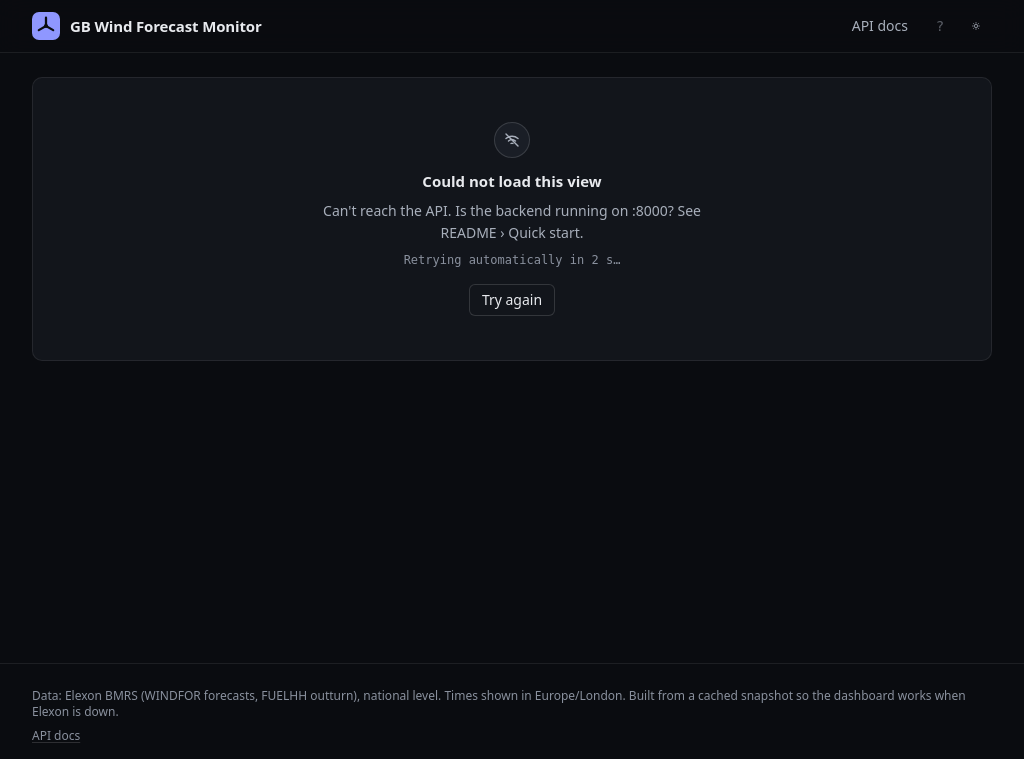
it: App › says the backend can't be reached when the dev proxy answers 500, then recovers
Expected: the message shows "Can't reach the API. Is the backend running on :8000?", [323,201,701,242]
Expected: the message does not show "Request failed (500)", [323,122,701,316]
Click the button "Try again": (512, 300) [469,284,555,316]
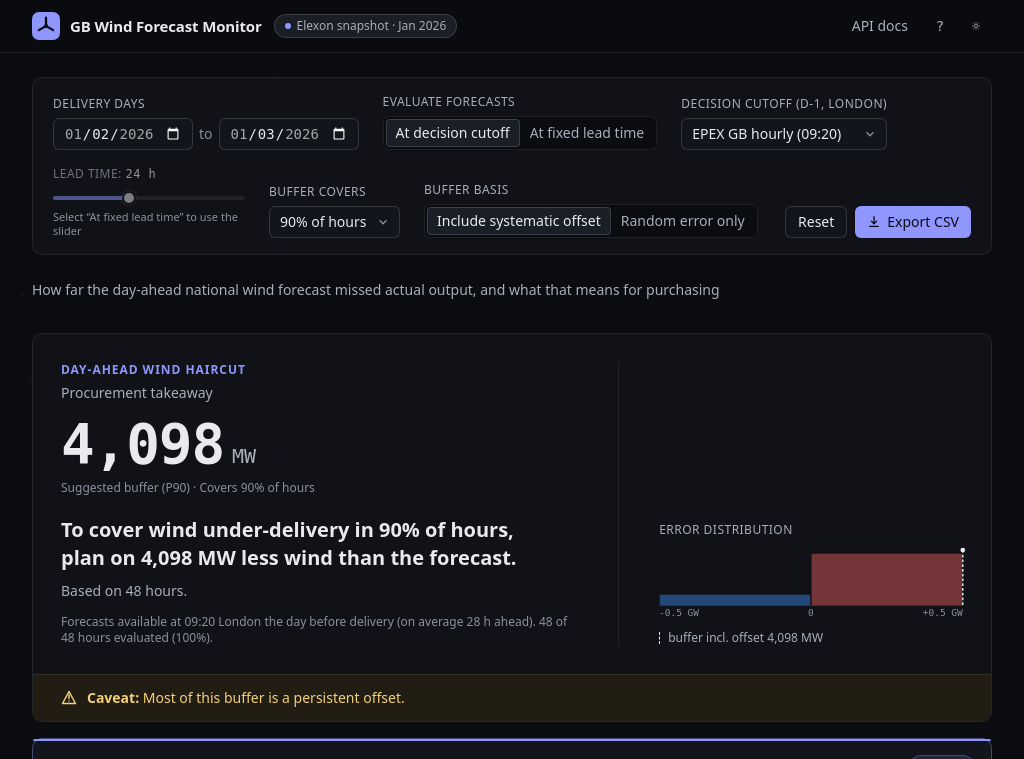
Result: the text "plan on 4,098 MW less wind" is shown at [61,516,517,571]
